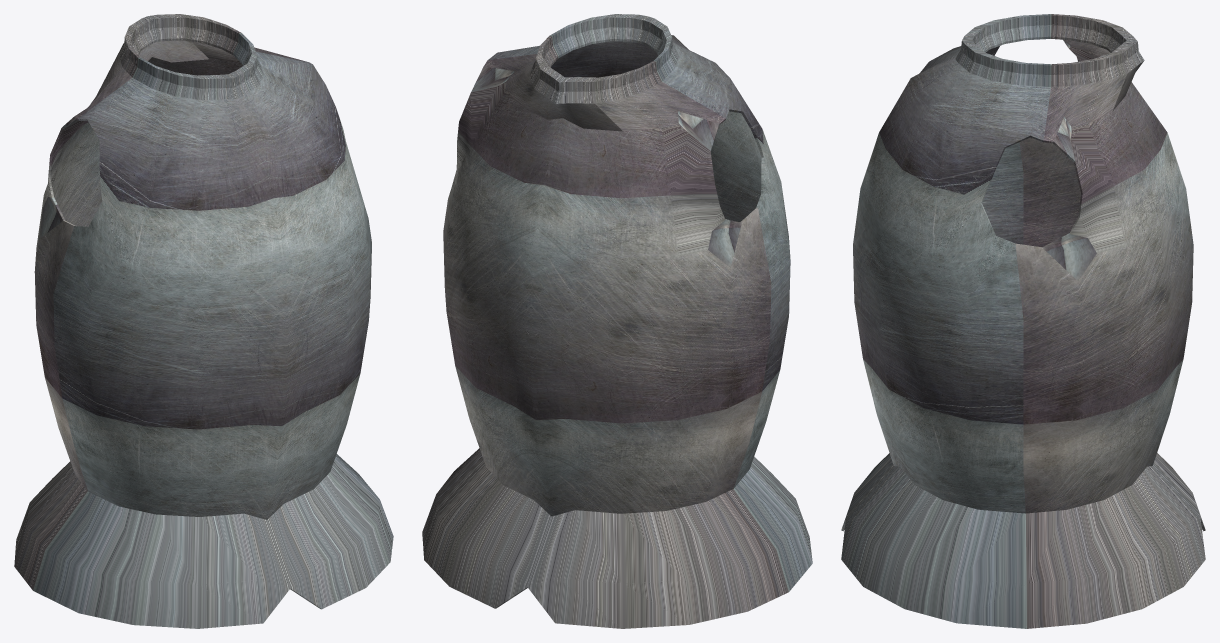
3 views of the same model, side by side, from view 1: azimuth 30°, elevation 25°; view 2: azimuth 150°, elevation 25°; view 3: azimuth 270°, elevation 25° (orthographic). The views are drawn at different scales.
Visible parts, largest first — view 1: Cylinder001, Object001; view 2: Cylinder001, Object001; view 3: Cylinder001, Object001.
Part boxes in pixels (left/top/right/bottom): Cylinder001: left=34, top=14, right=371, bottom=519; Object001: left=14, top=454, right=393, bottom=628; Cylinder001: left=443, top=14, right=790, bottom=516; Object001: left=422, top=448, right=812, bottom=628; Cylinder001: left=853, top=14, right=1193, bottom=513; Object001: left=841, top=453, right=1205, bottom=628.
Bounding box in the file's own units: 323 × 454 × 296.
1 material, 1 textured.
